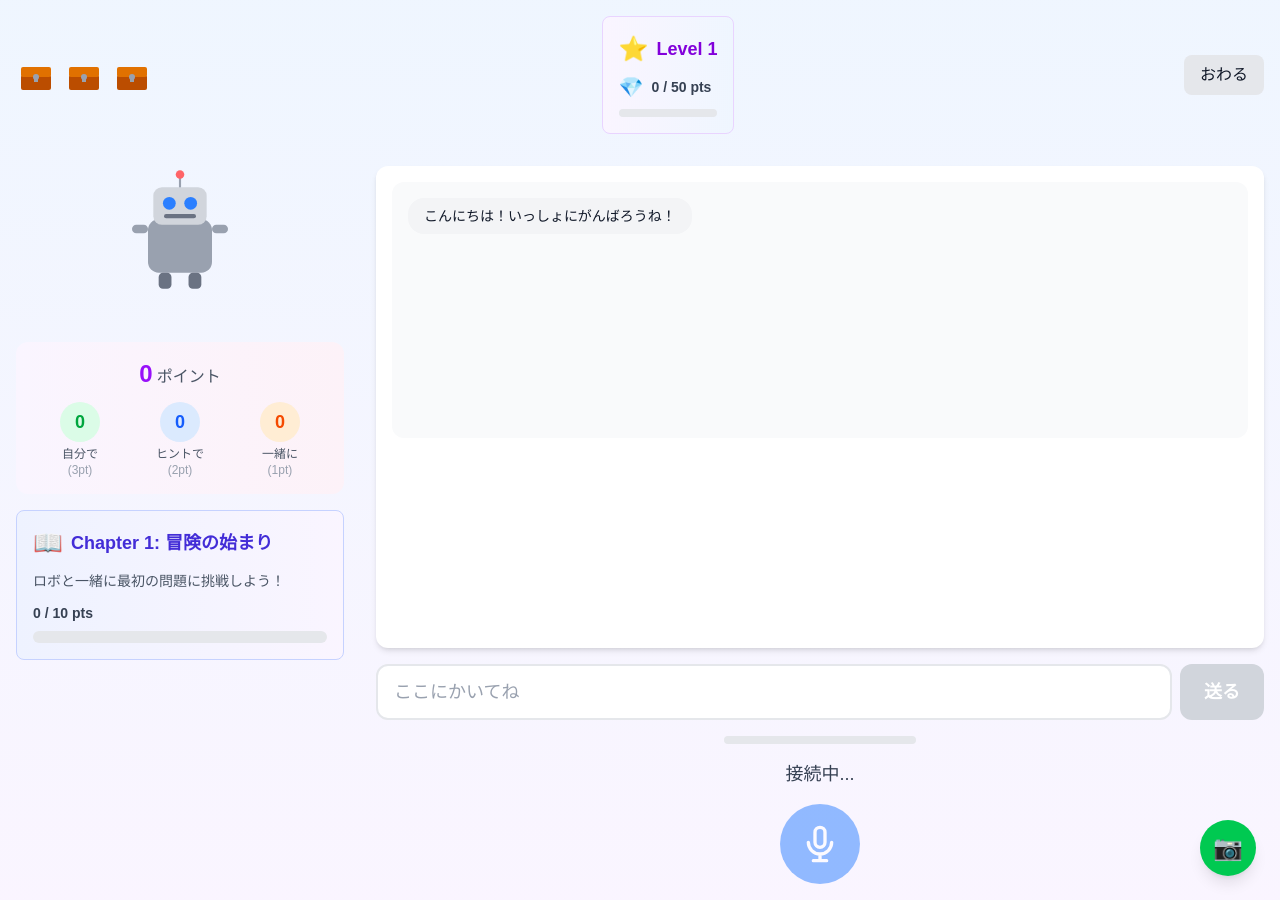
Test: SessionContent › フローティングカメラボタン › オーバーレイの閉じるボタンでCameraInterfaceが非表示になる
This screenshot has width=1280, height=900.
Check: the element with placeholder "ここにかいてね" is shown, box [0,150,360,899]
# カメラボタンをタップしてオーバーレイを開く
Click the button named "しゃしんをとる" at (1228, 848), box [1200,820,1256,876]
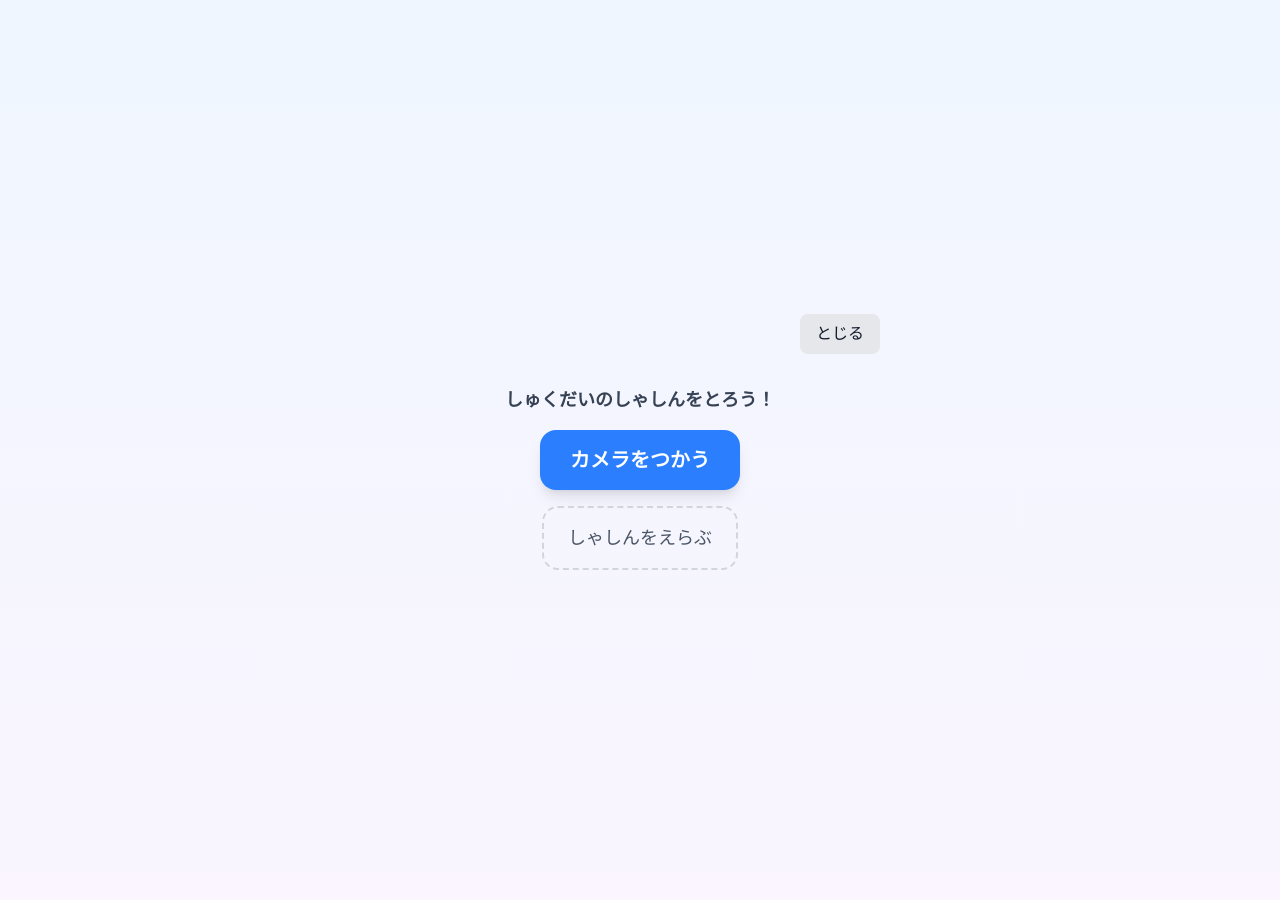
Check: the text "しゅくだいのしゃしんをとろう！" is shown, box [505,386,775,414]
# 閉じるボタンをタップ
Click the button "とじる" at (840, 334), box [800,314,880,354]
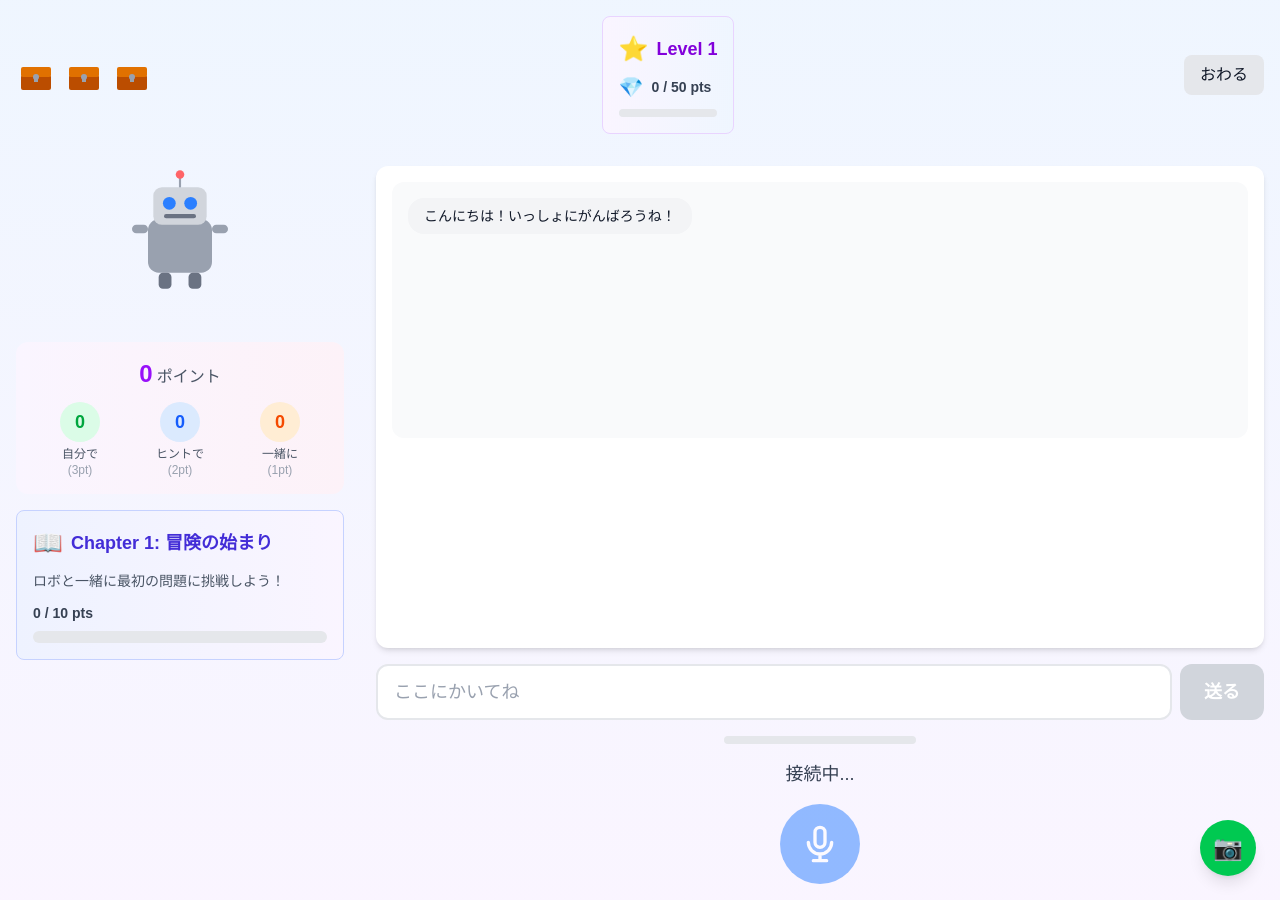
Check: the text "しゅくだいのしゃしんをとろう！" is gone
